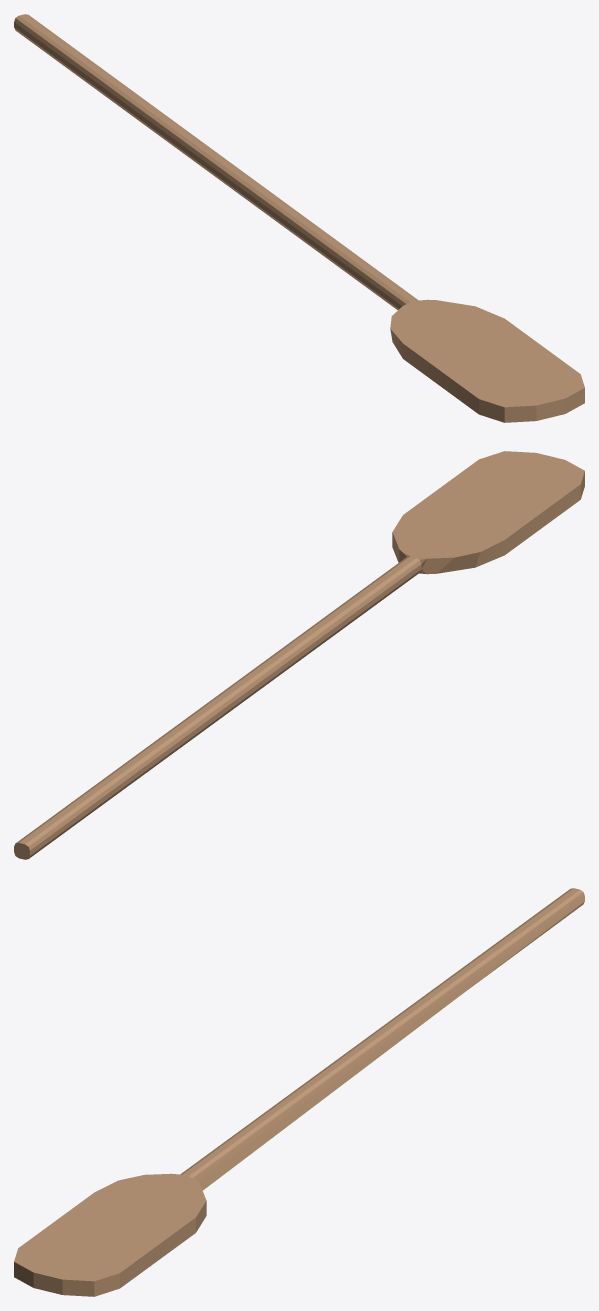
File: paddle.glb
3 views of the same model, one above another, from view 1: azimuth 30°, elevation 25°; view 2: azimuth 150°, elevation 25°; view 3: azimuth 330°, elevation 25° (orthographic).
Visible parts, largest first — view 1: paddle; view 2: paddle; view 3: paddle.
Part boxes in pixels (x1,y1,x2,y2): paddle: [14, 14, 584, 422]; paddle: [14, 451, 584, 859]; paddle: [14, 888, 584, 1296].
Size of the model in its own units: 0.4864 by 0.0708 by 4.38.
Materials: 1 (1 with a texture image).
